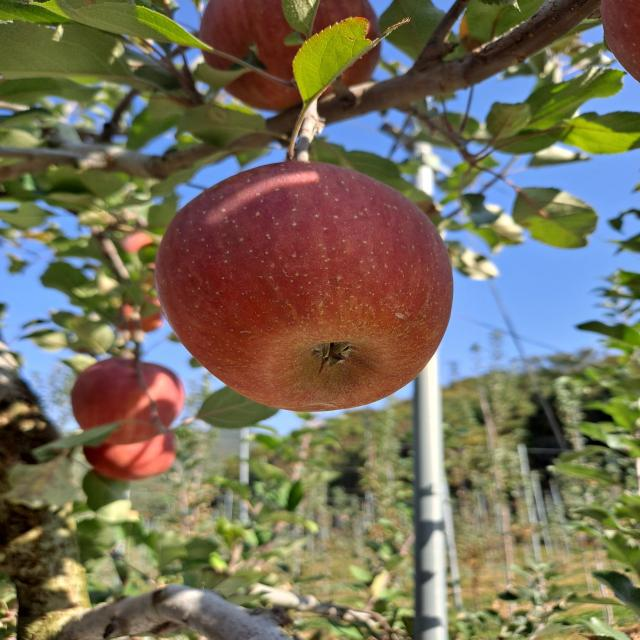fresh: (147, 155, 471, 426)
